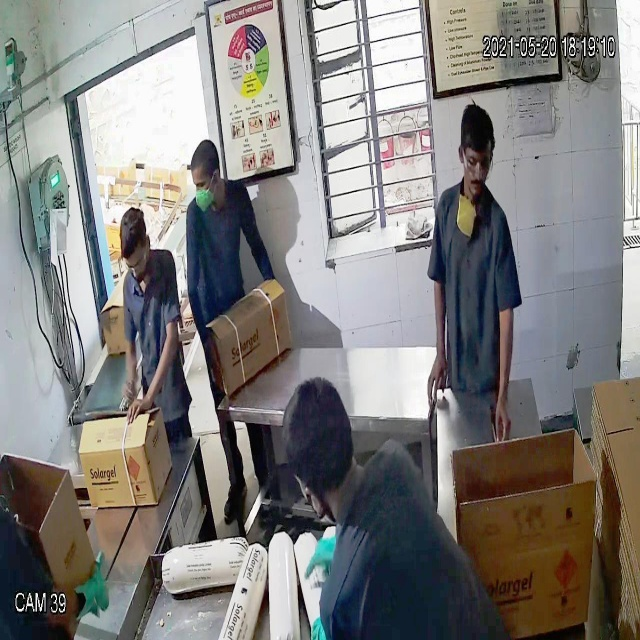Gafas: (457, 146, 496, 179)
Sin_gafas: (191, 171, 219, 195)
